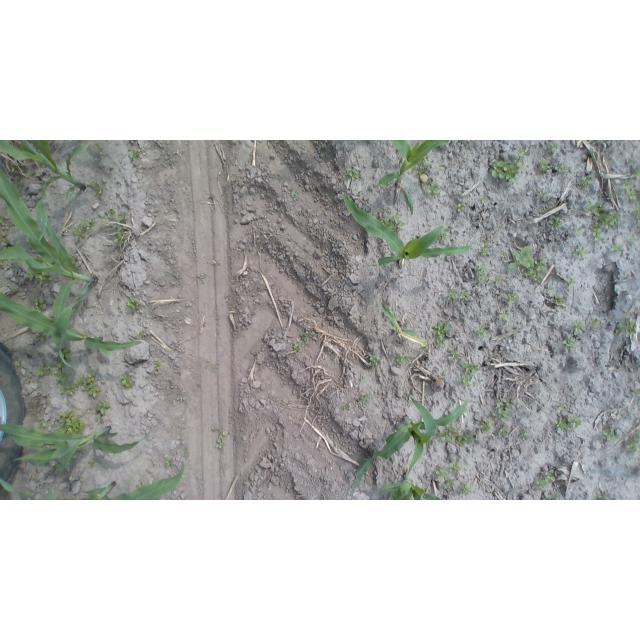Maize: (0, 167, 96, 357), (351, 394, 469, 494), (1, 292, 144, 370), (343, 192, 470, 266), (0, 140, 90, 240), (1, 423, 152, 472), (0, 460, 184, 500), (378, 141, 450, 216), (381, 299, 427, 346), (381, 474, 444, 500)
Weeds: (507, 246, 546, 283), (491, 150, 530, 183), (588, 202, 620, 241), (50, 362, 74, 396), (57, 409, 86, 435), (439, 426, 476, 446), (76, 373, 101, 398), (72, 218, 95, 243), (431, 321, 451, 348), (492, 398, 512, 424), (379, 214, 406, 233), (616, 317, 638, 338), (460, 362, 480, 385), (555, 414, 582, 430), (621, 180, 640, 201), (537, 468, 556, 489), (475, 262, 490, 286), (446, 290, 472, 303), (214, 425, 228, 449), (95, 401, 112, 419), (625, 432, 640, 452), (126, 295, 143, 312), (57, 346, 71, 366), (28, 272, 49, 285), (120, 373, 135, 391), (90, 180, 105, 198), (114, 227, 128, 246), (416, 159, 432, 175), (446, 349, 462, 364), (367, 352, 382, 368), (480, 417, 494, 434), (571, 320, 585, 337), (129, 149, 144, 164), (573, 245, 588, 260), (549, 215, 562, 231), (627, 160, 640, 176), (479, 240, 492, 256), (32, 297, 45, 313), (550, 294, 567, 306), (576, 174, 593, 186), (474, 324, 488, 338), (562, 337, 576, 351), (395, 354, 410, 367), (424, 181, 439, 194), (537, 159, 550, 174), (358, 393, 371, 407), (603, 429, 617, 442), (36, 363, 48, 378), (632, 204, 640, 226), (439, 228, 452, 241), (345, 168, 359, 180), (592, 492, 613, 500), (101, 209, 117, 219), (71, 254, 83, 267), (448, 460, 460, 473), (434, 468, 446, 481), (507, 291, 519, 304), (300, 331, 310, 346), (547, 143, 560, 154), (457, 202, 468, 214), (554, 164, 566, 175), (543, 283, 555, 294), (461, 483, 473, 494), (291, 341, 302, 353), (590, 316, 601, 328), (492, 274, 502, 287), (610, 245, 624, 254), (565, 277, 576, 288), (152, 359, 162, 371), (182, 447, 191, 460), (118, 213, 129, 223), (536, 188, 546, 199), (499, 426, 510, 436), (443, 479, 453, 490), (498, 312, 509, 322), (86, 458, 95, 470), (135, 480, 147, 489), (39, 419, 49, 429), (165, 458, 176, 467), (557, 404, 567, 413), (521, 429, 530, 439), (575, 225, 583, 236), (498, 250, 506, 260), (543, 494, 556, 500), (134, 331, 143, 339), (212, 258, 220, 267), (358, 374, 366, 383), (631, 235, 638, 245), (39, 335, 50, 341), (198, 273, 206, 281), (212, 365, 219, 374), (480, 197, 488, 204), (291, 189, 298, 197), (341, 404, 349, 410), (497, 226, 504, 232), (542, 210, 548, 215), (9, 168, 16, 172), (285, 354, 291, 358)
